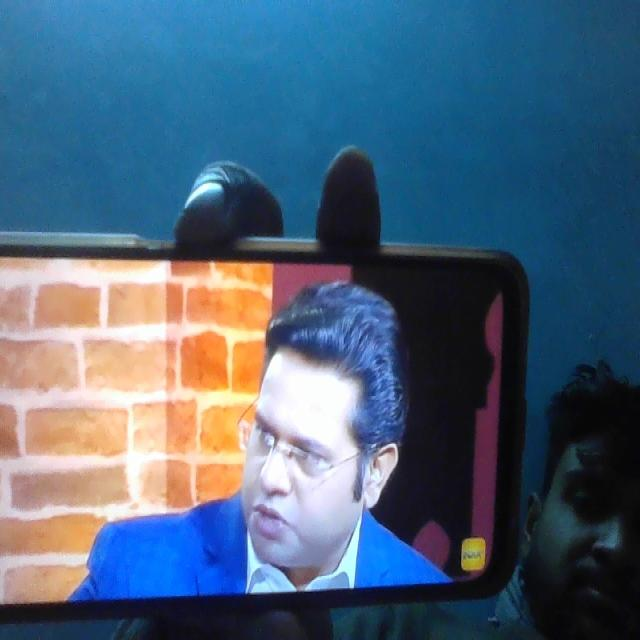fake: (231, 307, 376, 580)
